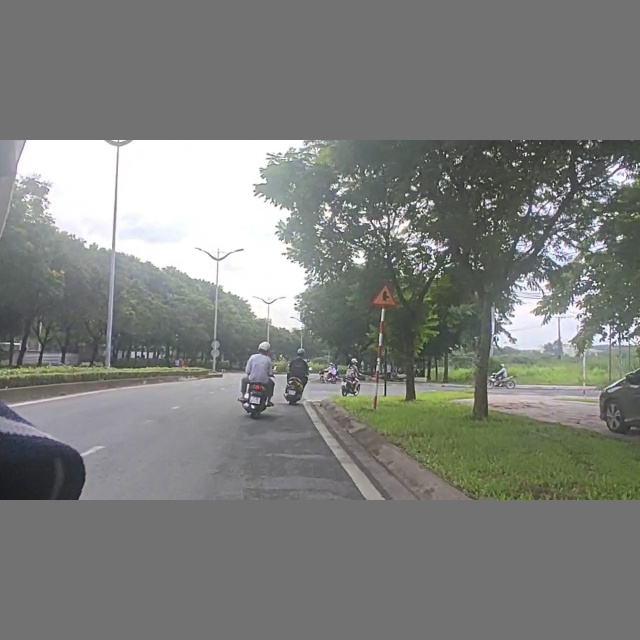W.207: (368, 281, 401, 309)
